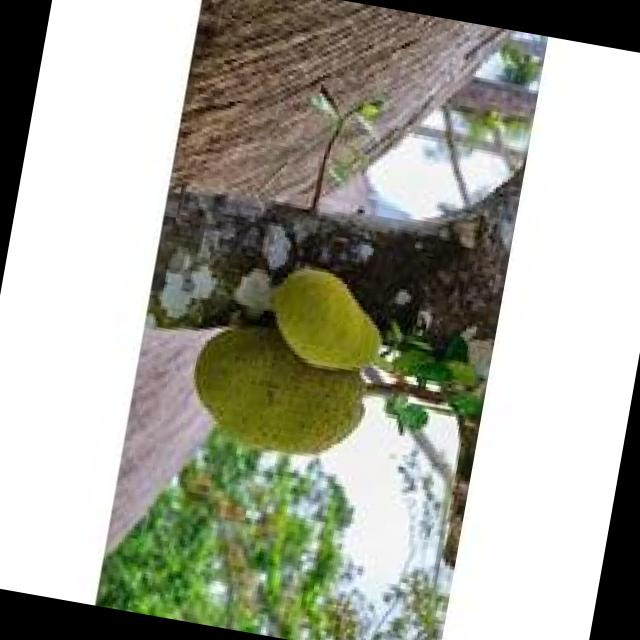Fruit: (168, 228, 408, 478)
